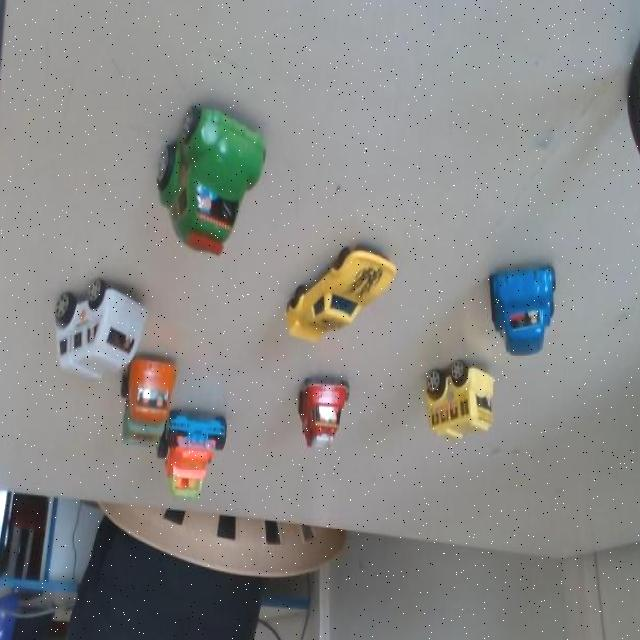car: (146, 105, 272, 256), (50, 266, 151, 391), (281, 239, 398, 346), (162, 409, 240, 509), (487, 258, 563, 358), (415, 353, 492, 440), (117, 349, 179, 456), (286, 362, 351, 456)
